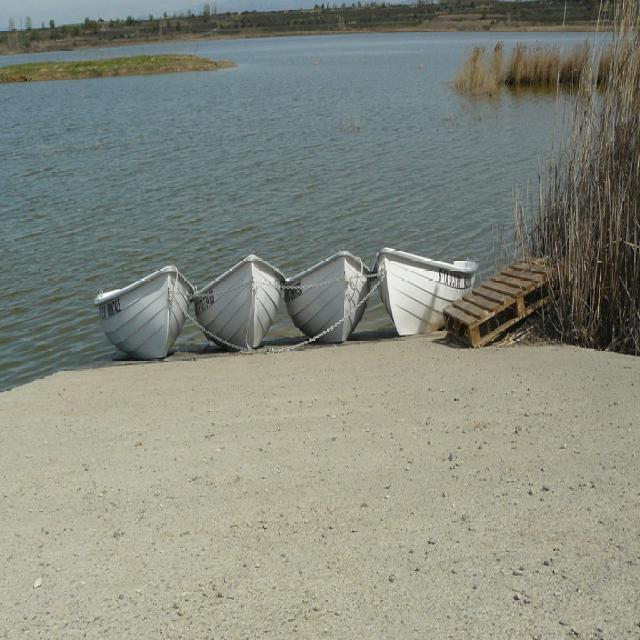Boat: (368, 230, 476, 326), (93, 263, 194, 356), (194, 253, 287, 354), (284, 253, 372, 339)
